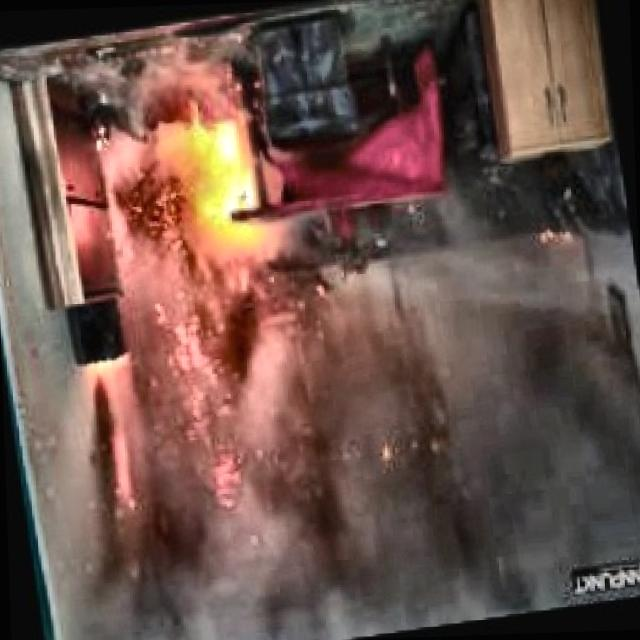fire: (142, 82, 301, 292)
